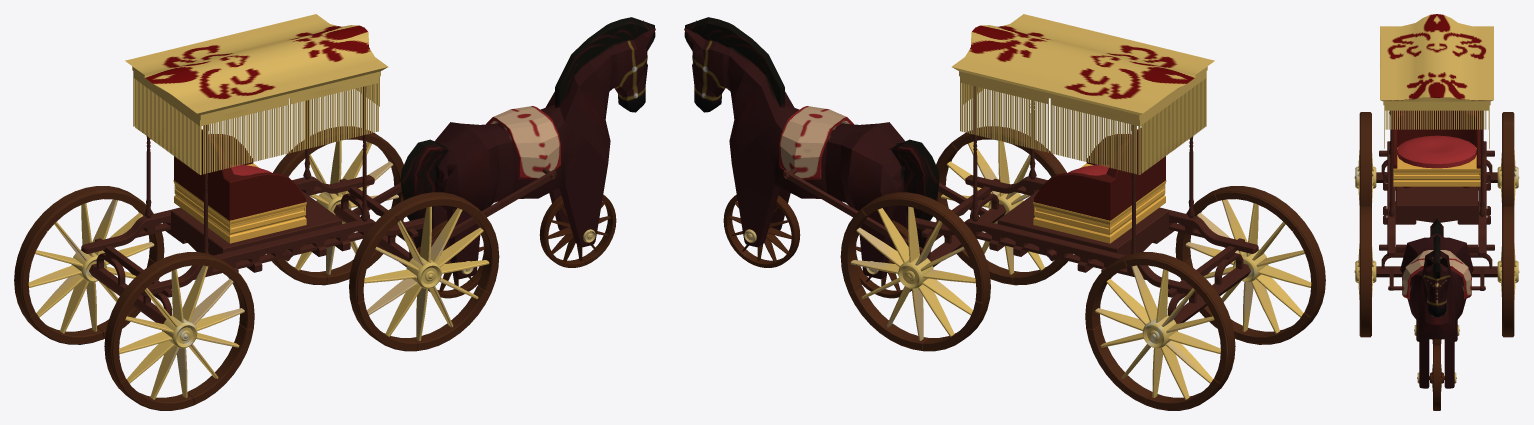
Rendered from carriage.fbx.
The picture shows the model from 3 angles, left to right: view 1: azimuth 30°, elevation 25°; view 2: azimuth 150°, elevation 25°; view 3: azimuth 270°, elevation 25°; orthographic projection. The views are drawn at different scales.
Parts seen in each view (by area): view 1: polySurface525; view 2: polySurface525; view 3: polySurface525.
Part boxes in pixels (x1,y1,x2,y2): polySurface525: (14, 14, 655, 410); polySurface525: (684, 14, 1325, 410); polySurface525: (1354, 14, 1519, 410).
Bounding box in the file's own units: 1082 × 506 × 331.
9 materials, 5 textured.
